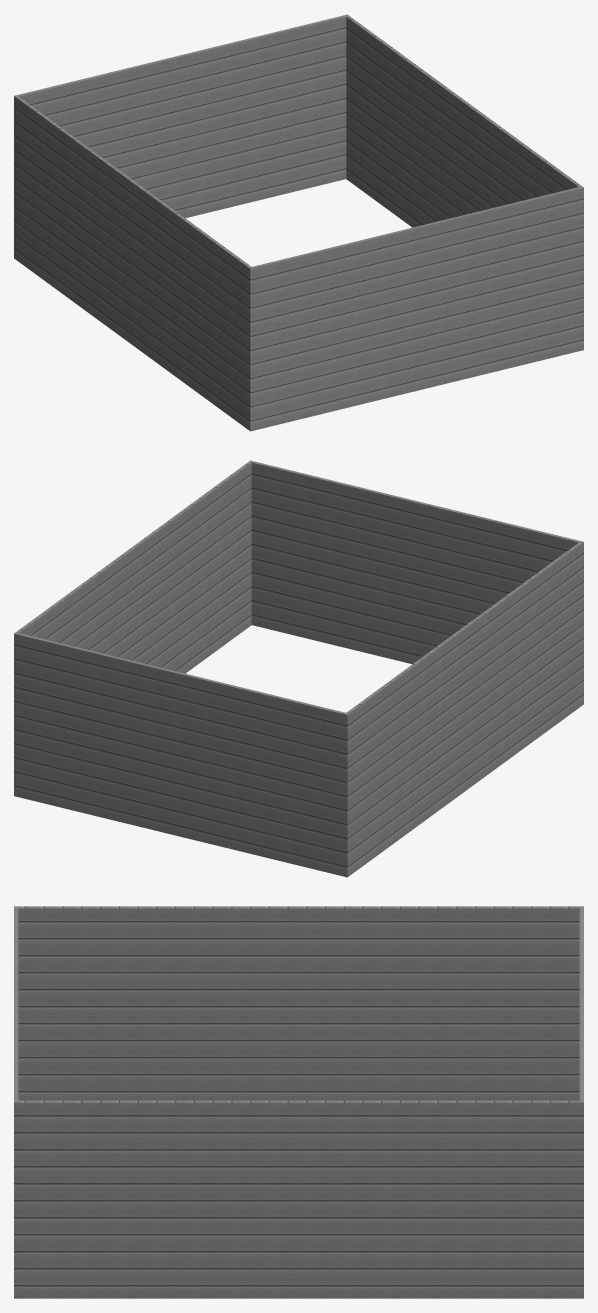
Rendered from exteriorGf.glb.
3 views of the same model, one above another, from view 1: azimuth 30°, elevation 25°; view 2: azimuth 150°, elevation 25°; view 3: azimuth 270°, elevation 25° (orthographic). The views are drawn at different scales.
Parts seen in each view (by area): view 1: exteriorwall; view 2: exteriorwall; view 3: exteriorwall.
Part boxes in pixels (box(x1,y1,x2,y2)): exteriorwall: box(14, 14, 583, 431); exteriorwall: box(14, 460, 583, 877); exteriorwall: box(14, 906, 583, 1298).
Size of the model in its own units: 6.12 by 2.85 by 7.52.
1 material, 1 textured.
